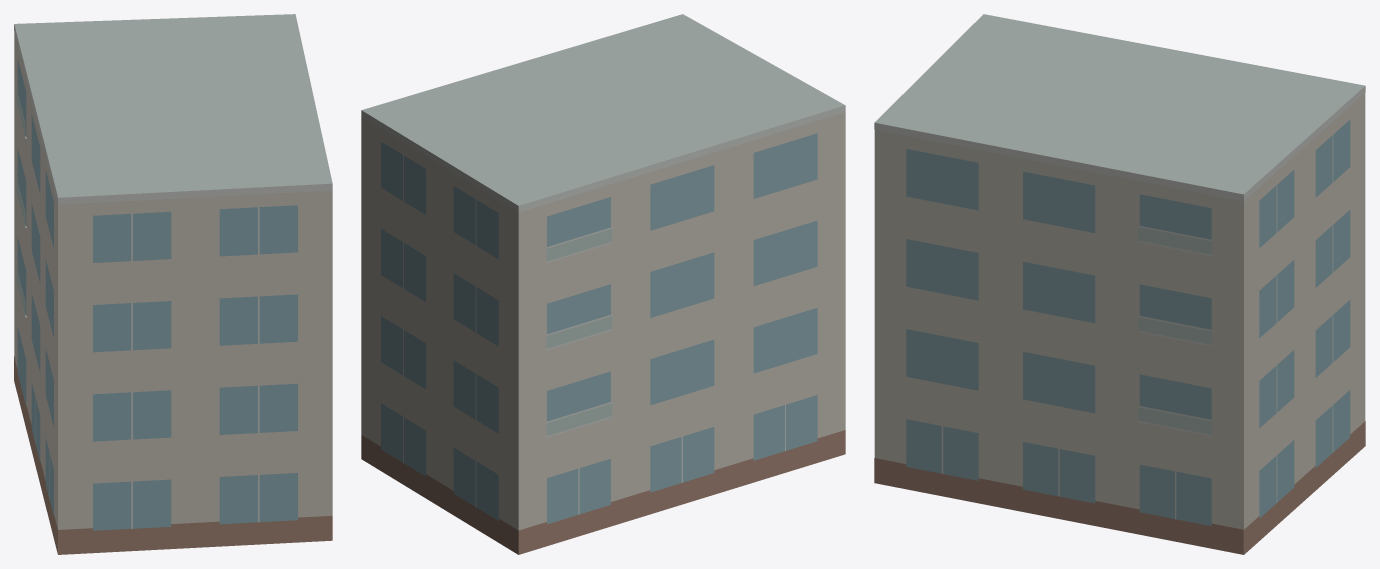
Rendered from survey-upis-32680267.glb.
The picture shows the model from 3 angles, left to right: view 1: azimuth 30°, elevation 25°; view 2: azimuth 150°, elevation 25°; view 3: azimuth 270°, elevation 25°; orthographic projection. The views are drawn at different scales.
Parts seen in each view (by area): view 1: survey-upis-32680267.tmp; view 2: survey-upis-32680267.tmp; view 3: survey-upis-32680267.tmp.
Part boxes in pixels (x1,y1,x2,y2): survey-upis-32680267.tmp: [14, 14, 332, 554]; survey-upis-32680267.tmp: [361, 14, 845, 554]; survey-upis-32680267.tmp: [874, 14, 1365, 554].
Size of the model in its own units: 13.76 by 12.8 by 15.82.
